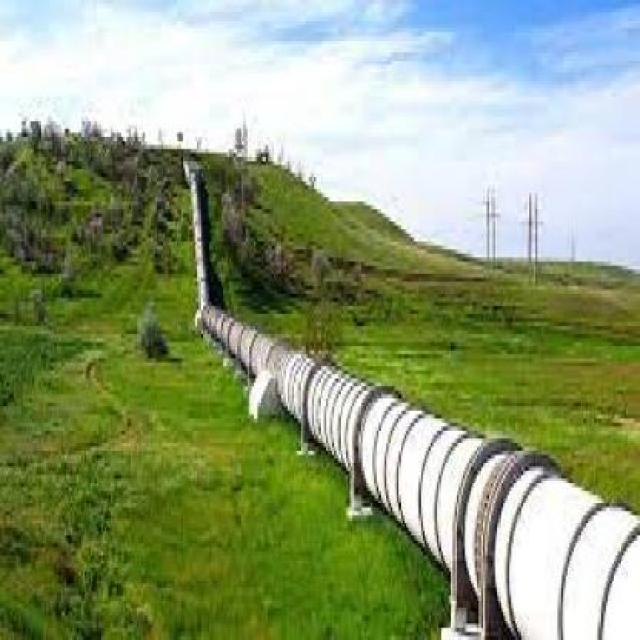gas: (189, 178, 640, 640)
